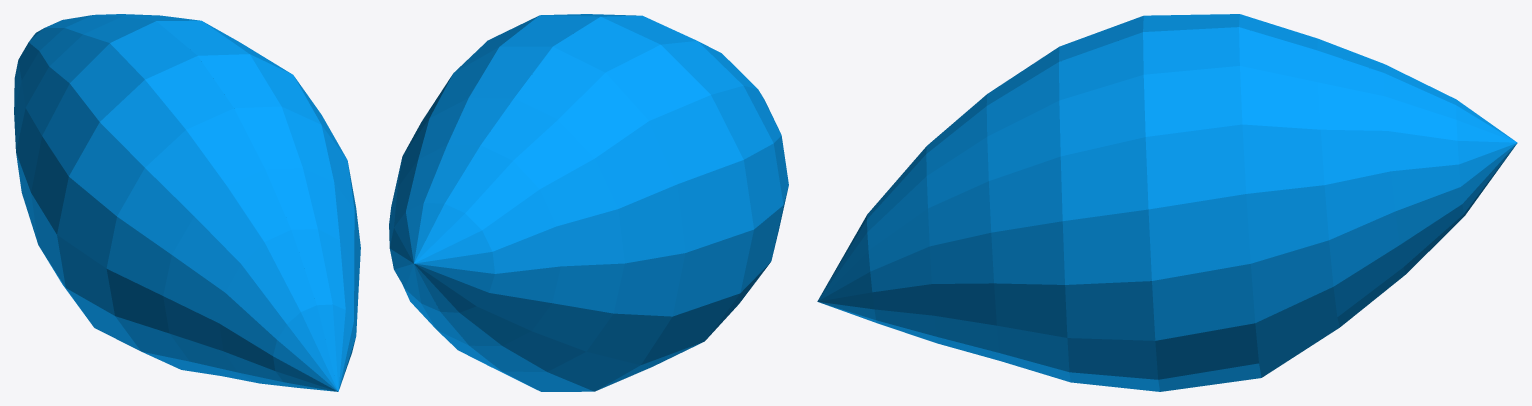
The model's file is SongPyeon.FBX.
3 views of the same model, side by side, from view 1: azimuth 30°, elevation 25°; view 2: azimuth 150°, elevation 25°; view 3: azimuth 270°, elevation 25° (orthographic). The views are drawn at different scales.
Parts seen in each view (by area): view 1: Cylinder001; view 2: Cylinder001; view 3: Cylinder001.
Boxes of the visible parts, box(x1,y1,x2,y2) form: Cylinder001: box(14, 14, 360, 391); Cylinder001: box(389, 14, 788, 391); Cylinder001: box(817, 14, 1517, 391).
Bounding box in the file's own units: 9.95 × 10.46 × 19.06.
